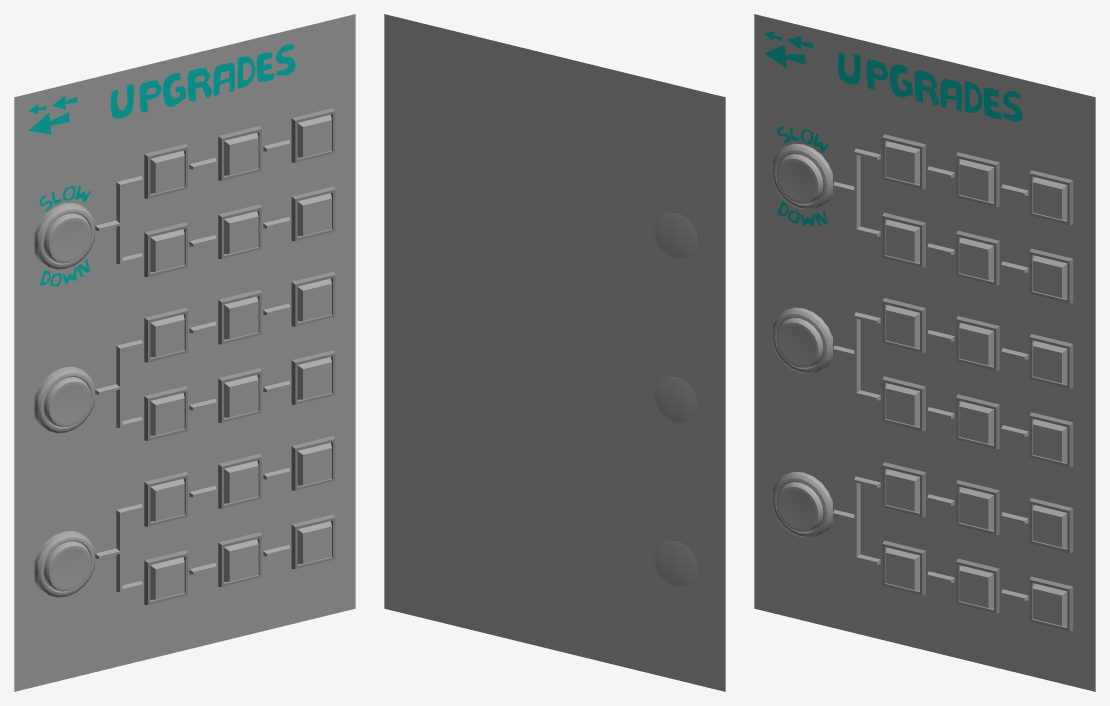
The model's file is mesh_upgradescreen.fbx.
3 views of the same model, side by side, from view 1: azimuth 30°, elevation 25°; view 2: azimuth 150°, elevation 25°; view 3: azimuth 330°, elevation 25° (orthographic).
Parts seen in each view (by area): view 1: mesh_upgrade_backround, mesh_upgrade_borders, mesh_upgrade_text1, mesh_skill_button1, mesh_skill_button3, mesh_skill_button2, mesh_skill_slot1, mesh_skill_slot3, mesh_skill_slot2, mesh_upgrade_button13, mesh_upgrade_button1, mesh_upgrade_button9 (+17 smaller); view 2: mesh_upgrade_backround, mesh_skill_button1, mesh_skill_button3, mesh_skill_button2; view 3: mesh_upgrade_backround, mesh_upgrade_borders, mesh_upgrade_text1, mesh_skill_button1, mesh_skill_button3, mesh_skill_button2, mesh_skill_slot3, mesh_skill_slot1, mesh_skill_slot2, mesh_upgrade_button9, mesh_upgrade_button3, mesh_upgrade_button5 (+17 smaller).
Part boxes in pixels (<box>): mesh_upgrade_backround: <box>14,14,355,691</box>; mesh_upgrade_borders: <box>95,108,335,604</box>; mesh_upgrade_text1: <box>110,44,295,118</box>; mesh_skill_button1: <box>44,213,91,263</box>; mesh_skill_button3: <box>44,541,91,591</box>; mesh_skill_button2: <box>44,377,91,427</box>; mesh_skill_slot1: <box>34,203,94,269</box>; mesh_skill_slot3: <box>34,531,94,597</box>; mesh_skill_slot2: <box>34,366,94,433</box>; mesh_upgrade_button13: <box>150,478,184,521</box>; mesh_upgrade_button1: <box>150,150,184,193</box>; mesh_upgrade_button9: <box>297,278,331,321</box>; mesh_upgrade_backround: <box>384,14,725,691</box>; mesh_skill_button1: <box>655,212,697,258</box>; mesh_skill_button3: <box>655,540,697,586</box>; mesh_skill_button2: <box>655,376,697,422</box>; mesh_upgrade_backround: <box>754,14,1095,691</box>; mesh_upgrade_borders: <box>833,134,1073,631</box>; mesh_upgrade_text1: <box>837,52,1022,121</box>; mesh_skill_button1: <box>776,154,823,204</box>; mesh_skill_button3: <box>776,482,823,532</box>; mesh_skill_button2: <box>776,318,823,368</box>; mesh_skill_slot3: <box>772,471,832,538</box>; mesh_skill_slot1: <box>772,143,832,210</box>; mesh_skill_slot2: <box>772,307,832,373</box>; mesh_upgrade_button9: <box>1033,340,1067,383</box>; mesh_upgrade_button3: <box>1033,177,1067,219</box>; mesh_upgrade_button5: <box>959,237,993,280</box>.
Bounding box in the file's own units: 0.2786 × 0.4634 × 0.00956.
